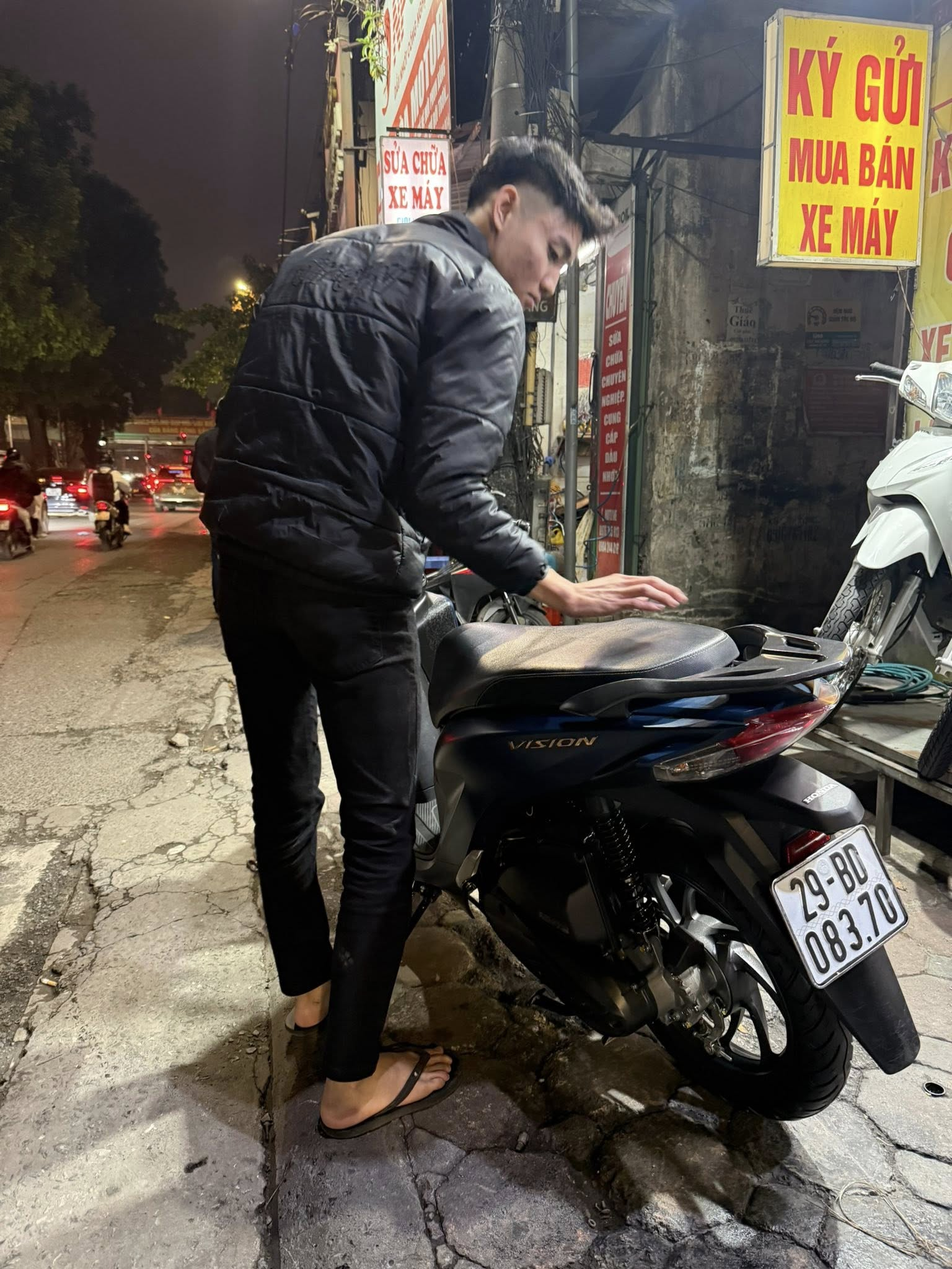bien_so: (764, 819, 914, 997)
